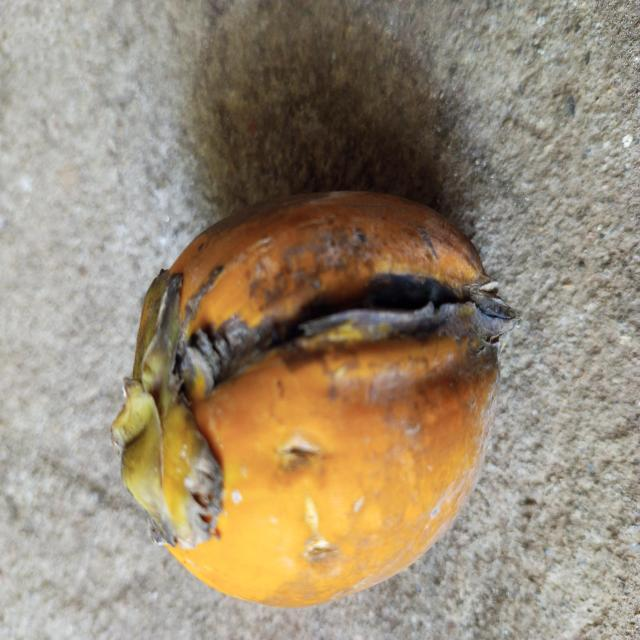damaged: (111, 192, 517, 606)
